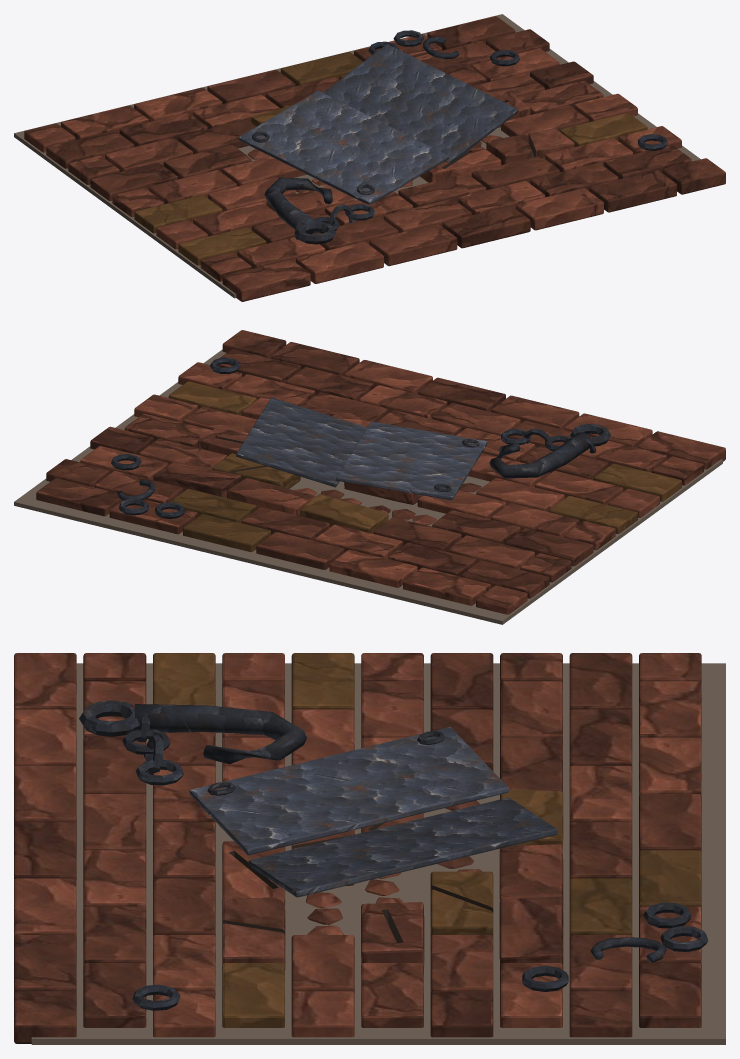
File: hw_snapped_chain.glb
3 renders of one model, top to bottom at view 1: azimuth 30°, elevation 25°; view 2: azimuth 150°, elevation 25°; view 3: azimuth 270°, elevation 25°, orthographic. The views are drawn at different scales.
Parts seen in each view (by area): view 1: model; view 2: model; view 3: model.
Part boxes in pixels (x1,y1,x2,y2): model: (14,14,725,301); model: (14,330,725,624); model: (14,653,725,1044).
Bounding box in the file's own units: 1.6 × 0.1777 × 1.28.
11 materials, 9 textured.
